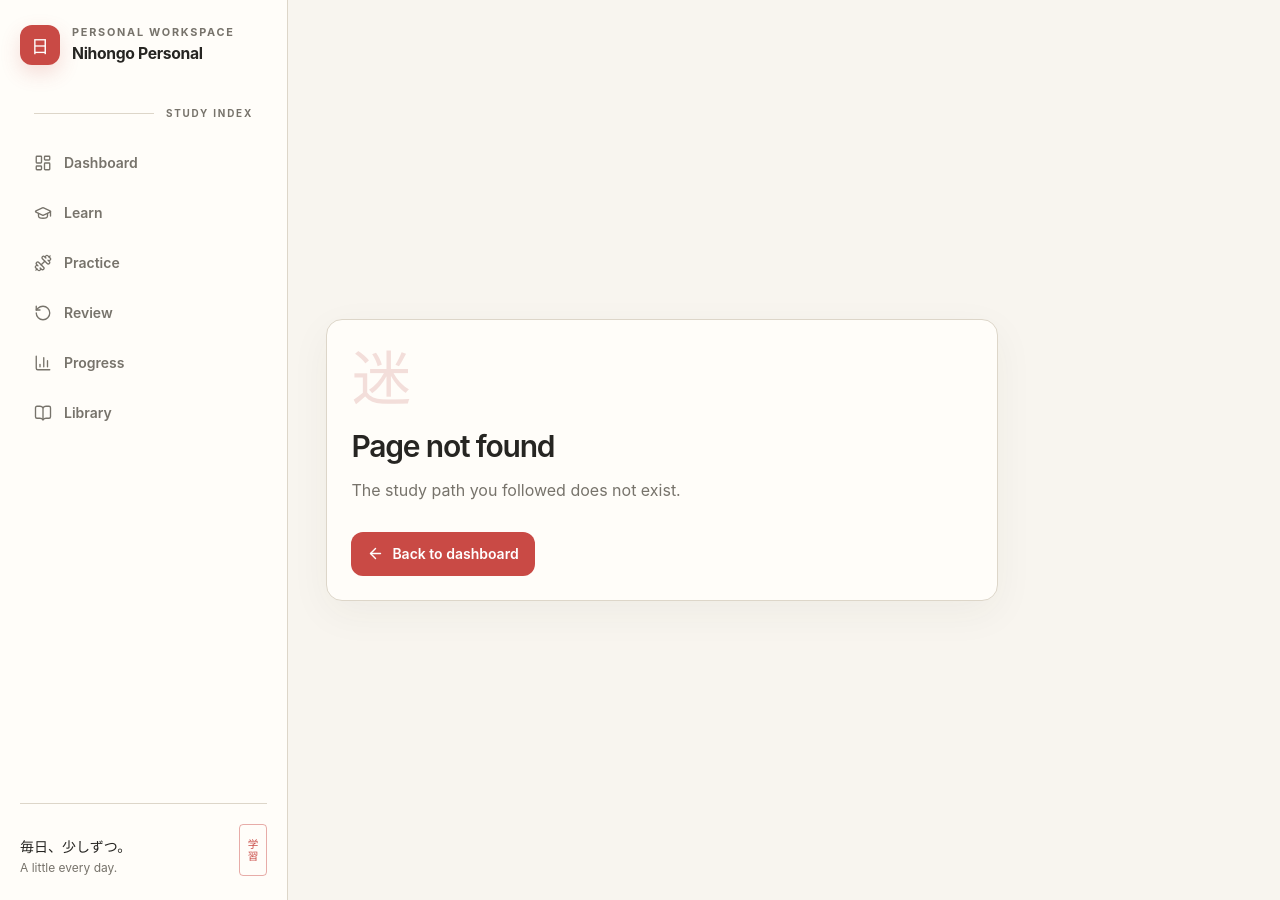
Test case: application routes › returns from an unknown route to the dashboard
The image size is (1280, 900).
Expected: the heading "Page not found" is shown, [351, 428, 554, 464]
What coordinates should you click on to do the following:
click the link "Back to dashboard"
I would click on:
 (443, 554)
Its box is [351, 532, 535, 576].
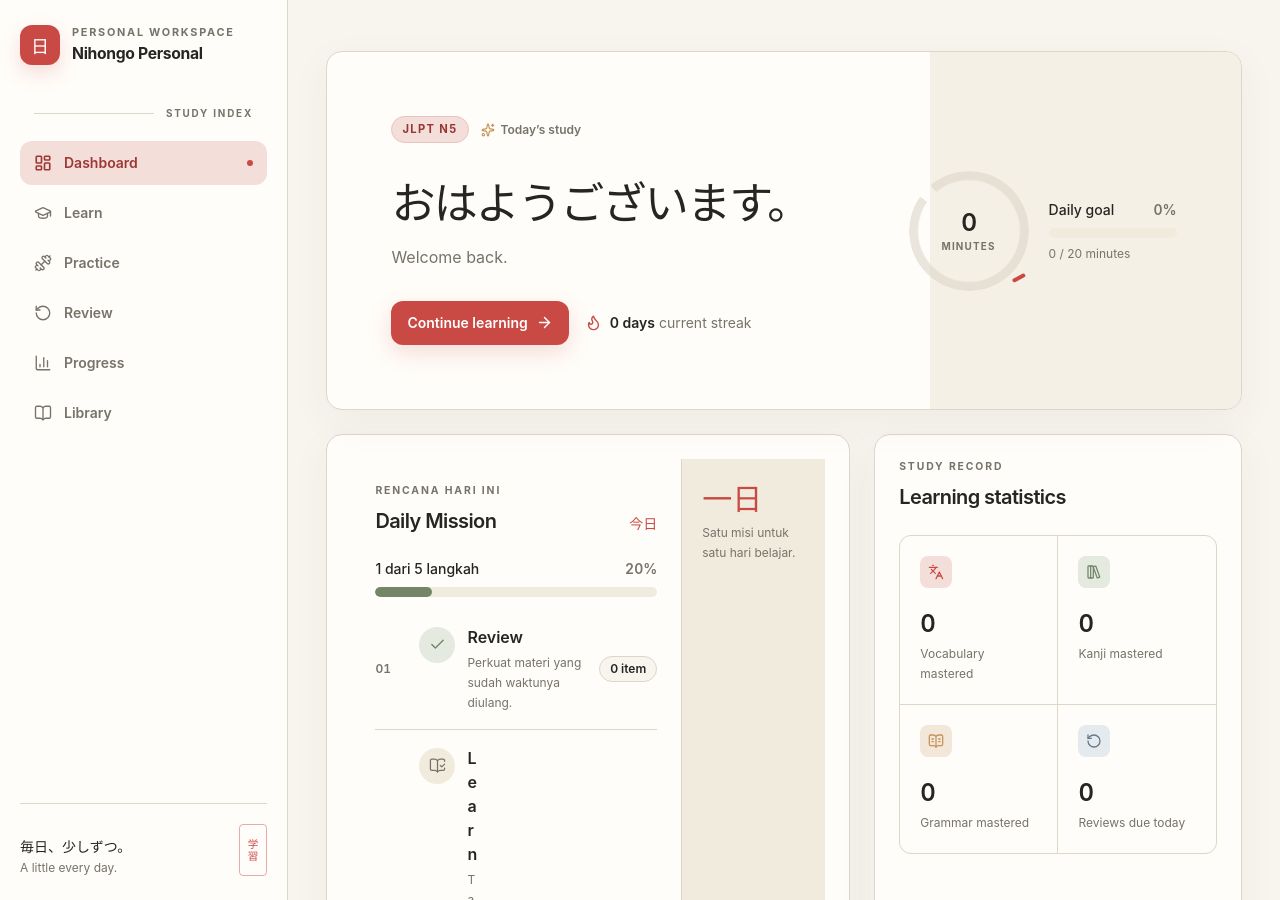
Result: the heading named "Dashboard" is shown at [391, 167, 877, 233]
